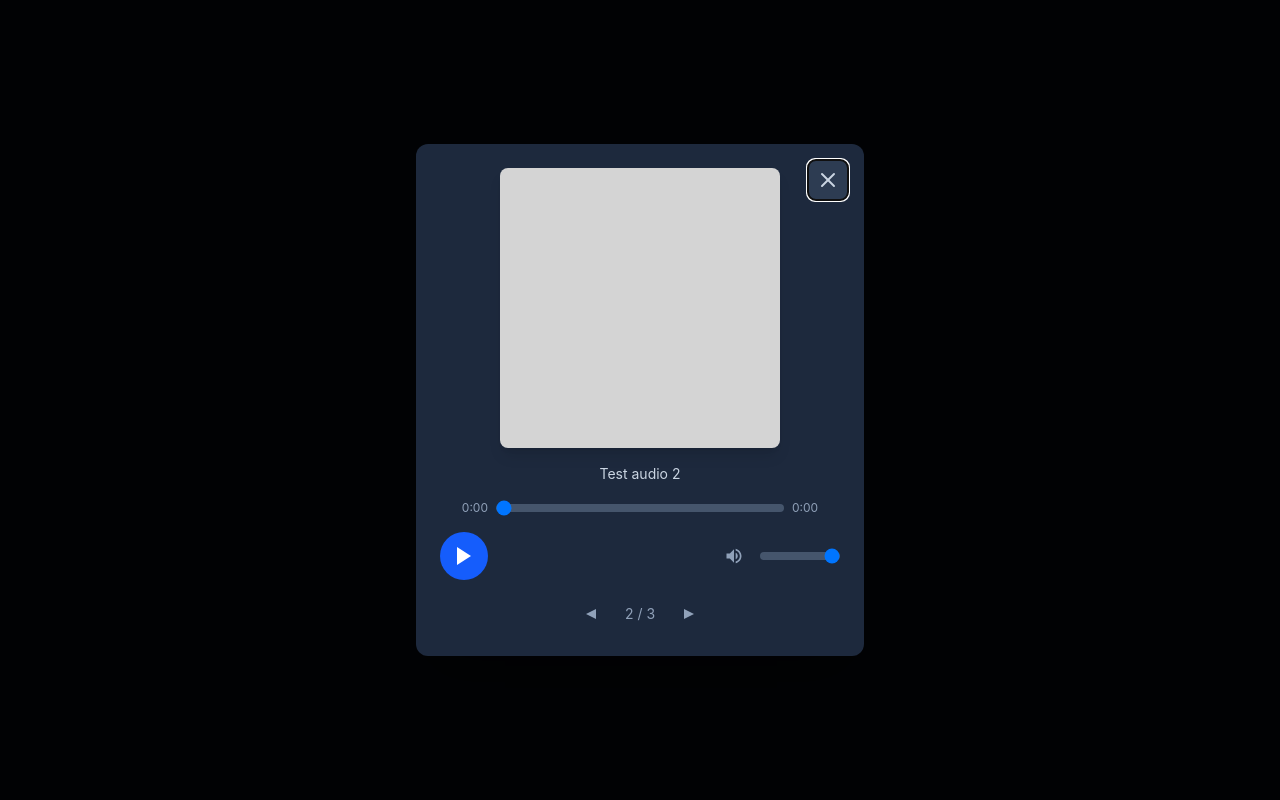
Scenario: AudioPlayer › track navigation › should navigate to previous track
This screenshot has width=1280, height=800.
Click the button named "前のトラック" at [591, 614], box [573,596,609,632]
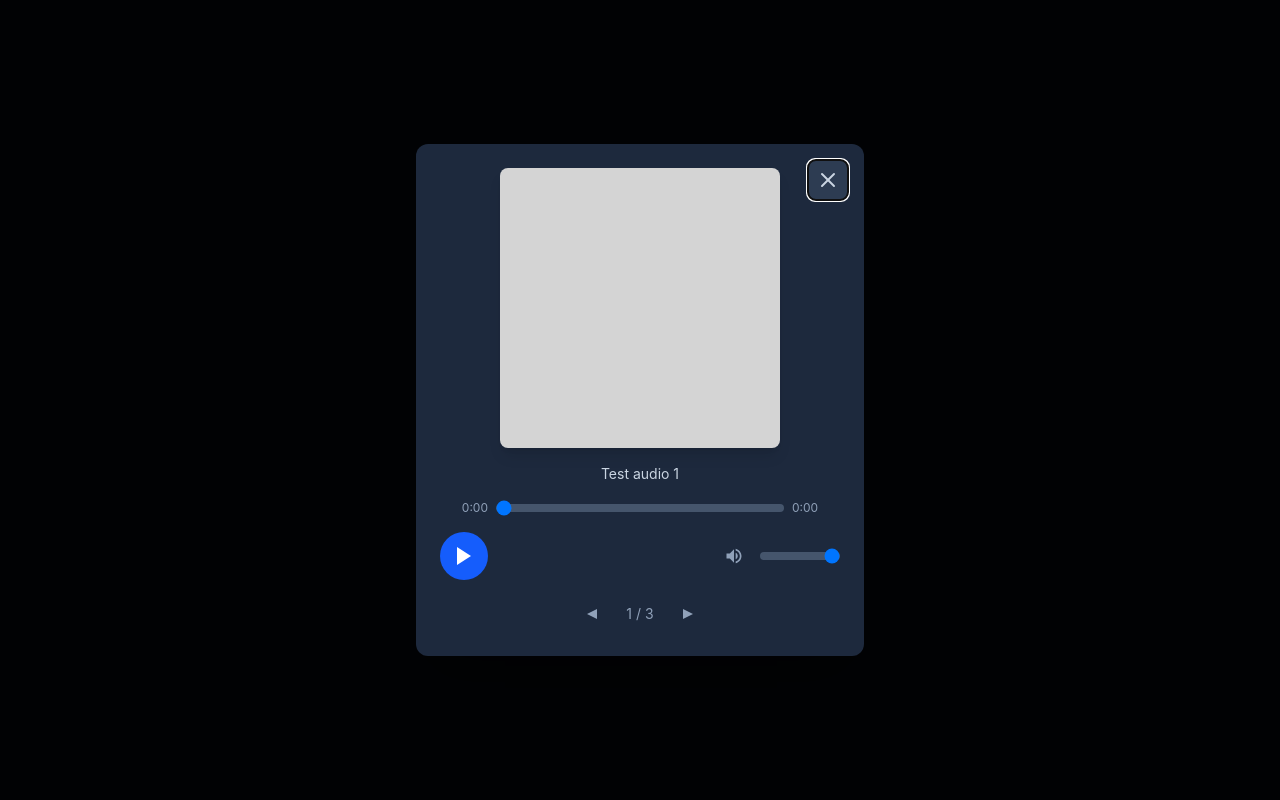
Check: the text "Test audio 1" is shown, box [601,465,679,482]
